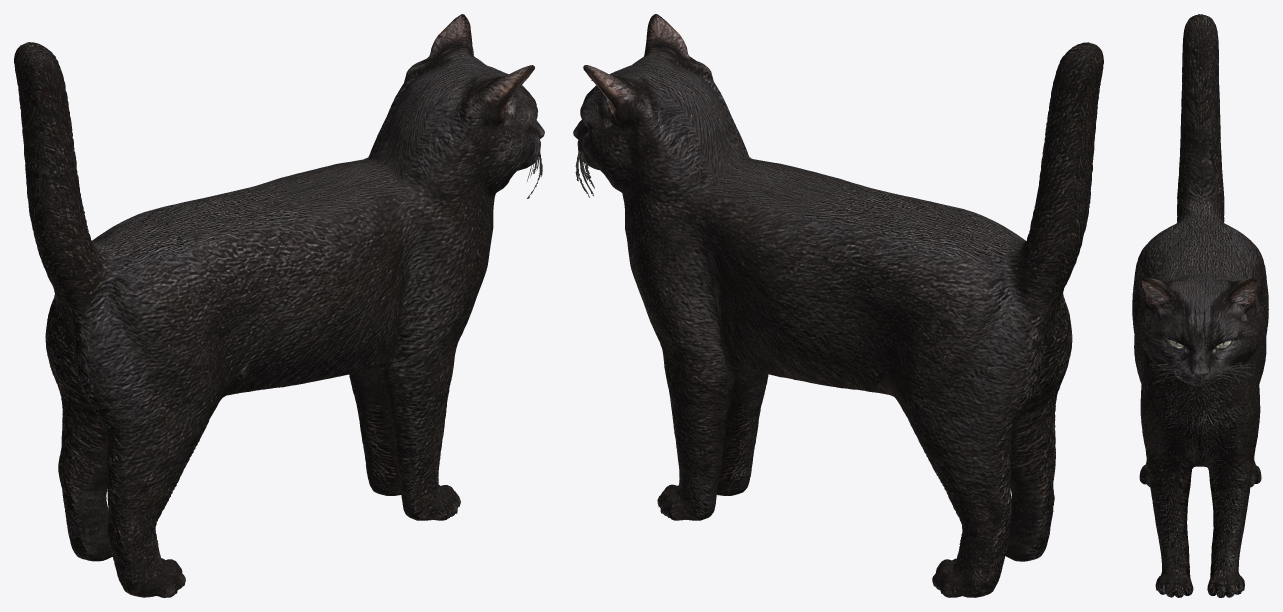
File: POEEDGAR.glb
3 views of the same model, side by side, from view 1: azimuth 30°, elevation 25°; view 2: azimuth 150°, elevation 25°; view 3: azimuth 270°, elevation 25° (orthographic). The views are drawn at different scales.
Visible parts, largest first — view 1: tripo_node_1932f413-8dda-47db-b509-99223fe46e92; view 2: tripo_node_1932f413-8dda-47db-b509-99223fe46e92; view 3: tripo_node_1932f413-8dda-47db-b509-99223fe46e92.
Boxes of the visible parts, bbox=[...] form: tripo_node_1932f413-8dda-47db-b509-99223fe46e92: bbox=[14, 14, 544, 597]; tripo_node_1932f413-8dda-47db-b509-99223fe46e92: bbox=[573, 14, 1103, 597]; tripo_node_1932f413-8dda-47db-b509-99223fe46e92: bbox=[1132, 14, 1268, 597].
Bounding box in the file's own units: 0.9959 × 0.9998 × 0.2877.
Materials: 1 (1 with a texture image).
